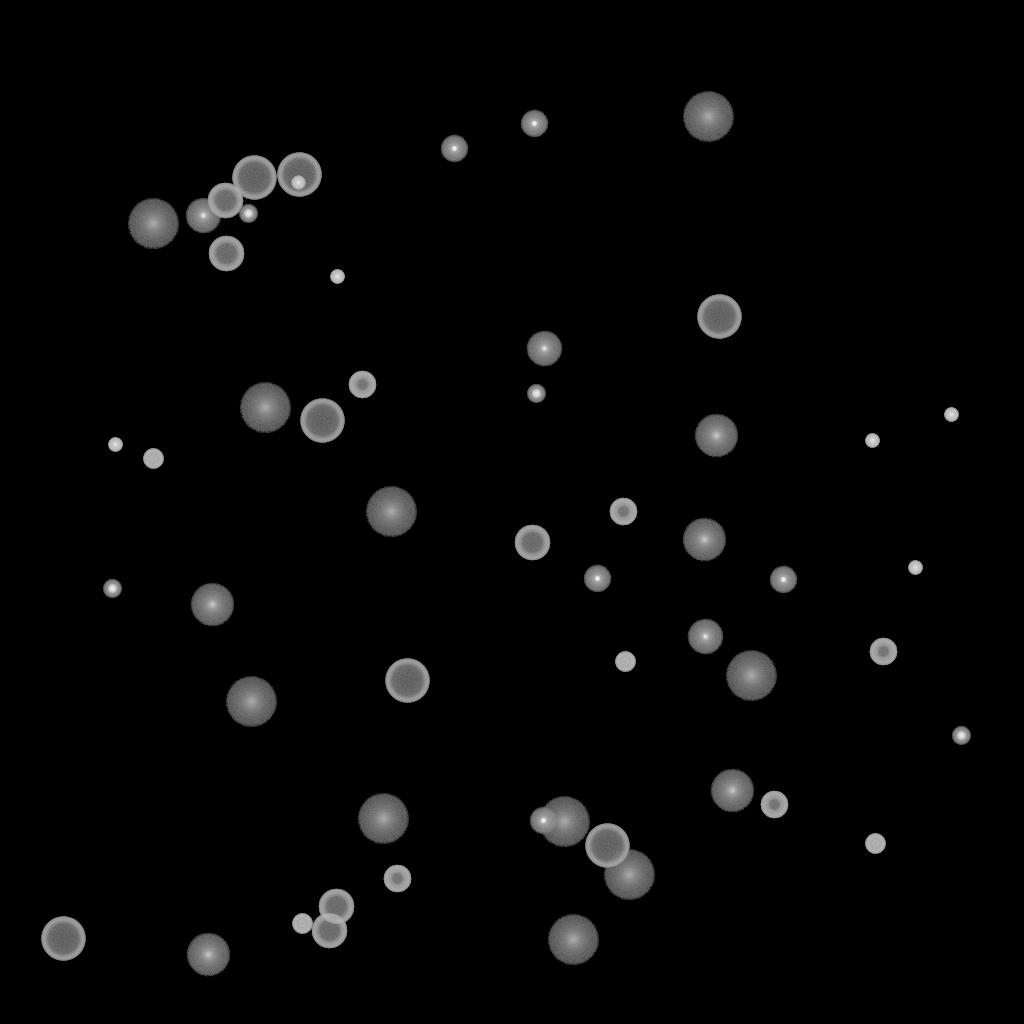depth:-10: (520, 110, 548, 138), (440, 135, 468, 163), (529, 807, 557, 835), (583, 565, 611, 593), (769, 566, 797, 594)
depth:-20: (527, 385, 545, 403), (103, 580, 121, 598), (239, 205, 257, 223), (952, 727, 970, 745)
depth:-30: (908, 561, 922, 575), (944, 408, 958, 422), (108, 438, 122, 452), (865, 434, 879, 448), (291, 176, 305, 190), (330, 270, 344, 284)
depth:-40: (292, 914, 312, 934), (615, 652, 635, 672), (865, 834, 885, 854), (143, 449, 163, 469)
depth:-50: (383, 865, 411, 893), (760, 791, 788, 819), (348, 371, 376, 399), (609, 498, 637, 526), (869, 638, 897, 666)
depth:-60: (311, 913, 347, 949), (207, 183, 243, 219), (208, 236, 244, 272), (514, 525, 550, 561), (318, 889, 354, 925)
depth:-70: (697, 295, 741, 339), (41, 917, 85, 961), (385, 659, 429, 703), (232, 156, 276, 200), (300, 399, 344, 443), (585, 824, 629, 868), (277, 153, 321, 197)
depth:0: (687, 619, 723, 655), (526, 331, 562, 367), (185, 198, 221, 234)
depth:10: (186, 933, 230, 977), (694, 414, 738, 458), (710, 769, 754, 813), (682, 518, 726, 562), (190, 583, 234, 627)
depth:20: (603, 850, 655, 900), (225, 677, 277, 727), (547, 915, 599, 965), (725, 651, 777, 701), (357, 794, 409, 844), (538, 797, 590, 847), (682, 92, 734, 142), (365, 487, 417, 537), (127, 199, 179, 249), (239, 383, 291, 433)
